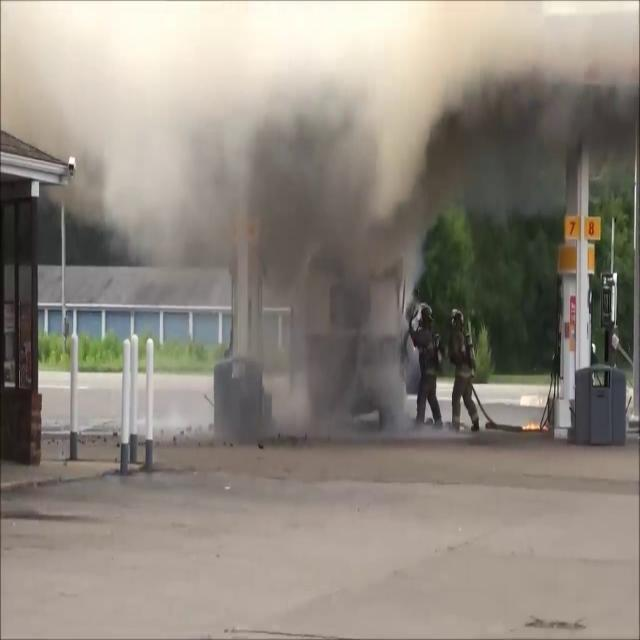Smoke: (59, 1, 417, 438)
